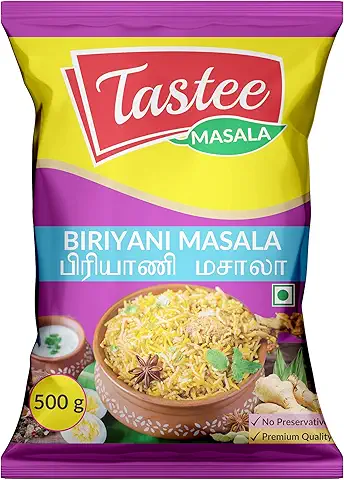Biryani: (3, 5, 344, 478)
